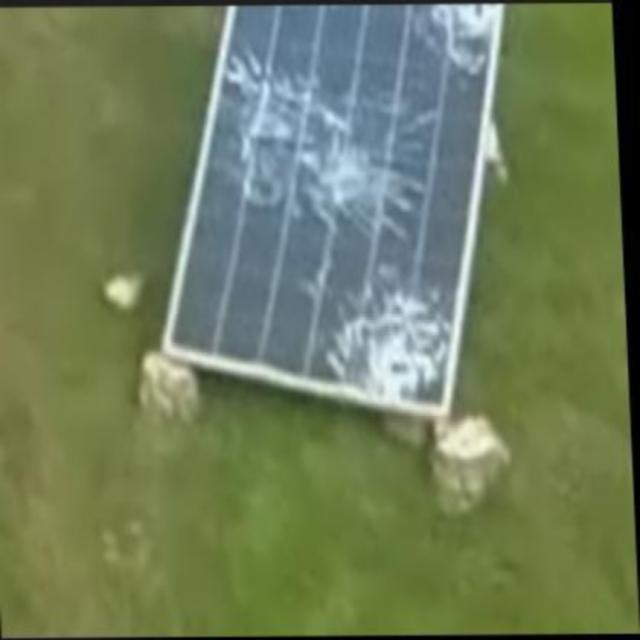cracked: (163, 3, 515, 416)
